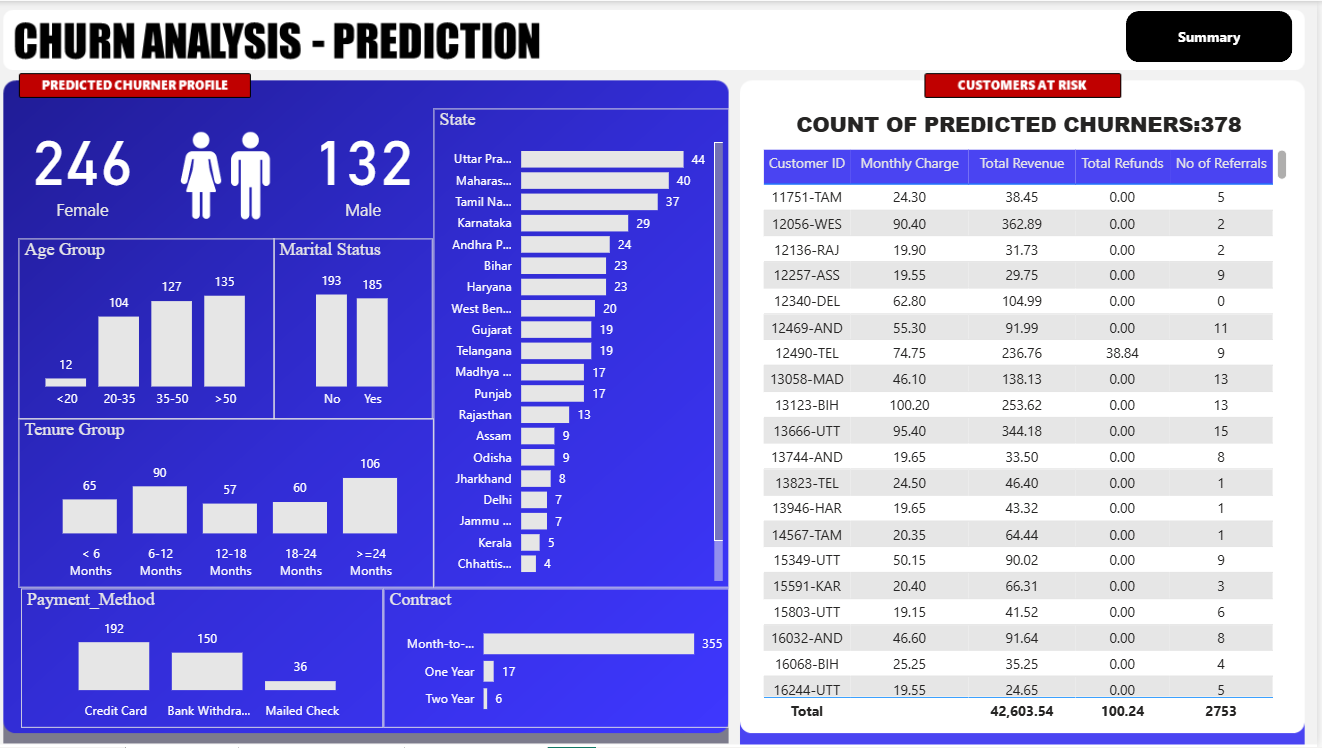

This screenshot's page, from the dashboard's own definition file:
{"tool":"powerbi","page":{"name":"Churn Prediction","canvas":[1280,720],"ordinal":1},"visuals":[{"type":"tableEx","fields":{"Values":["Predictions.Customer_ID","Predictions.Monthly_Charge","Sum(Predictions.Total_Revenue)","Sum(Predictions.Total_Refunds)","Sum(Predictions.Number_of_Referrals)"]},"box":[739.6,138.6,516,562.6],"z":0},{"type":"card","fields":{"Values":["tbi_Table.Title Predicted Churner"]},"box":[763,104.3,459.7,34.3],"z":1000},{"type":"card","fields":{"Values":["tbi_Table.Count Predicted Churner"]},"box":[26.1,104.3,123.5,111.1],"z":2000},{"type":"card","fields":{"Values":["tbi_Table.Count Predicted Churner"]},"box":[296.4,104.3,124.9,111.1],"z":3000},{"type":"clusteredColumnChart","title":"Age Group","fields":{"Category":["mapping_AgeGrp.Age Group"],"Y":["CountNonNull(Predictions.Customer_ID)"]},"box":[26.1,229.2,247,174.3],"z":4000},{"type":"clusteredColumnChart","title":"Marital Status","fields":{"Y":["CountNonNull(Predictions.Customer_ID)"],"Category":["Predictions.Married"]},"box":[273.1,229.2,153.7,174.3],"z":5000},{"type":"clusteredColumnChart","title":"Tenure Group","fields":{"Y":["CountNonNull(Predictions.Customer_ID)"],"Category":["mapping_TenureGrp.Tenure Group"]},"box":[26.1,403.4,400.7,163.3],"z":6000},{"type":"clusteredColumnChart","title":"Payment_Method","fields":{"Category":["Predictions.Payment_Method"],"Y":["CountNonNull(Predictions.Customer_ID)"]},"box":[28.8,566.7,349.9,134.5],"z":7000},{"type":"clusteredBarChart","title":"Contract","fields":{"Category":["Predictions.Contract"],"Y":["CountNonNull(Predictions.Customer_ID)"]},"box":[378.7,566.7,333.4,134.5],"z":8000},{"type":"clusteredBarChart","title":"State","fields":{"Category":["Predictions.State"],"Y":["CountNonNull(Predictions.Customer_ID)"]},"box":[426.8,104.3,285.4,462.4],"z":9000},{"type":"image","box":[167.4,104.3,116.6,127.6],"z":10000},{"type":"shape","box":[1095,9.6,160.5,49.4],"z":11000}]}

Visuals, with their boxes in screenshot pixels (x1, y1, x2, y2), scaled from the page's 1280x720 canvas onto the 1322x748 screenshot:
tableEx - Predictions.Customer_ID x Predictions.Monthly_Charge: (left=764, top=144, right=1297, bottom=728)
card - tbi_Table.Title Predicted Churner: (left=788, top=108, right=1263, bottom=144)
card - tbi_Table.Count Predicted Churner: (left=27, top=108, right=155, bottom=224)
card - tbi_Table.Count Predicted Churner: (left=306, top=108, right=435, bottom=224)
"Age Group" clusteredColumnChart: (left=27, top=238, right=282, bottom=419)
"Marital Status" clusteredColumnChart: (left=282, top=238, right=441, bottom=419)
"Tenure Group" clusteredColumnChart: (left=27, top=419, right=441, bottom=589)
"Payment_Method" clusteredColumnChart: (left=30, top=589, right=391, bottom=728)
"Contract" clusteredBarChart: (left=391, top=589, right=735, bottom=728)
"State" clusteredBarChart: (left=441, top=108, right=736, bottom=589)
image: (left=173, top=108, right=293, bottom=241)
shape: (left=1131, top=10, right=1297, bottom=61)
